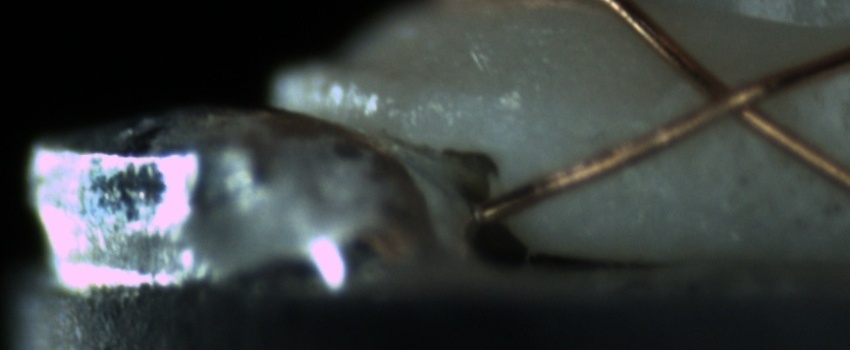CL: (682, 60, 785, 136)
